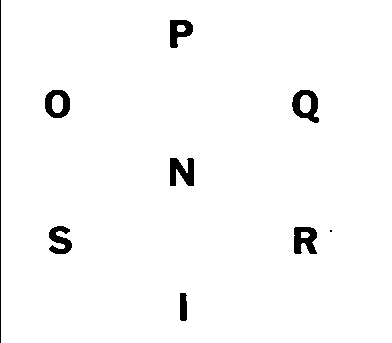I: (174, 288, 194, 329)
